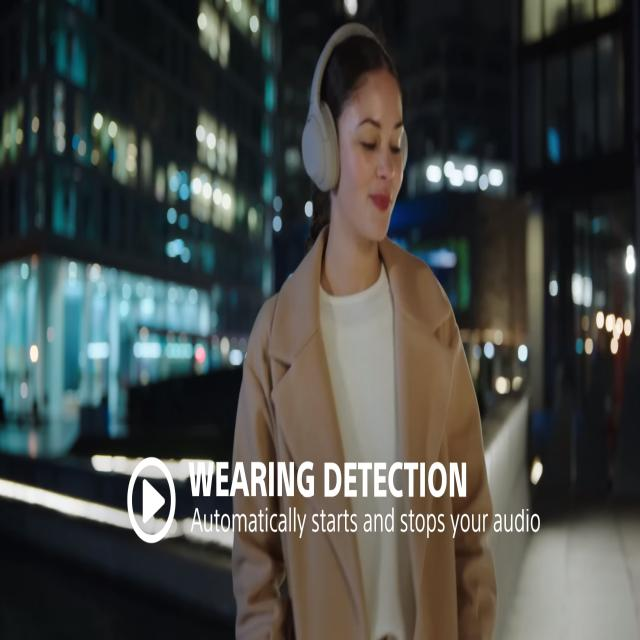Headphone: (300, 24, 408, 192)
